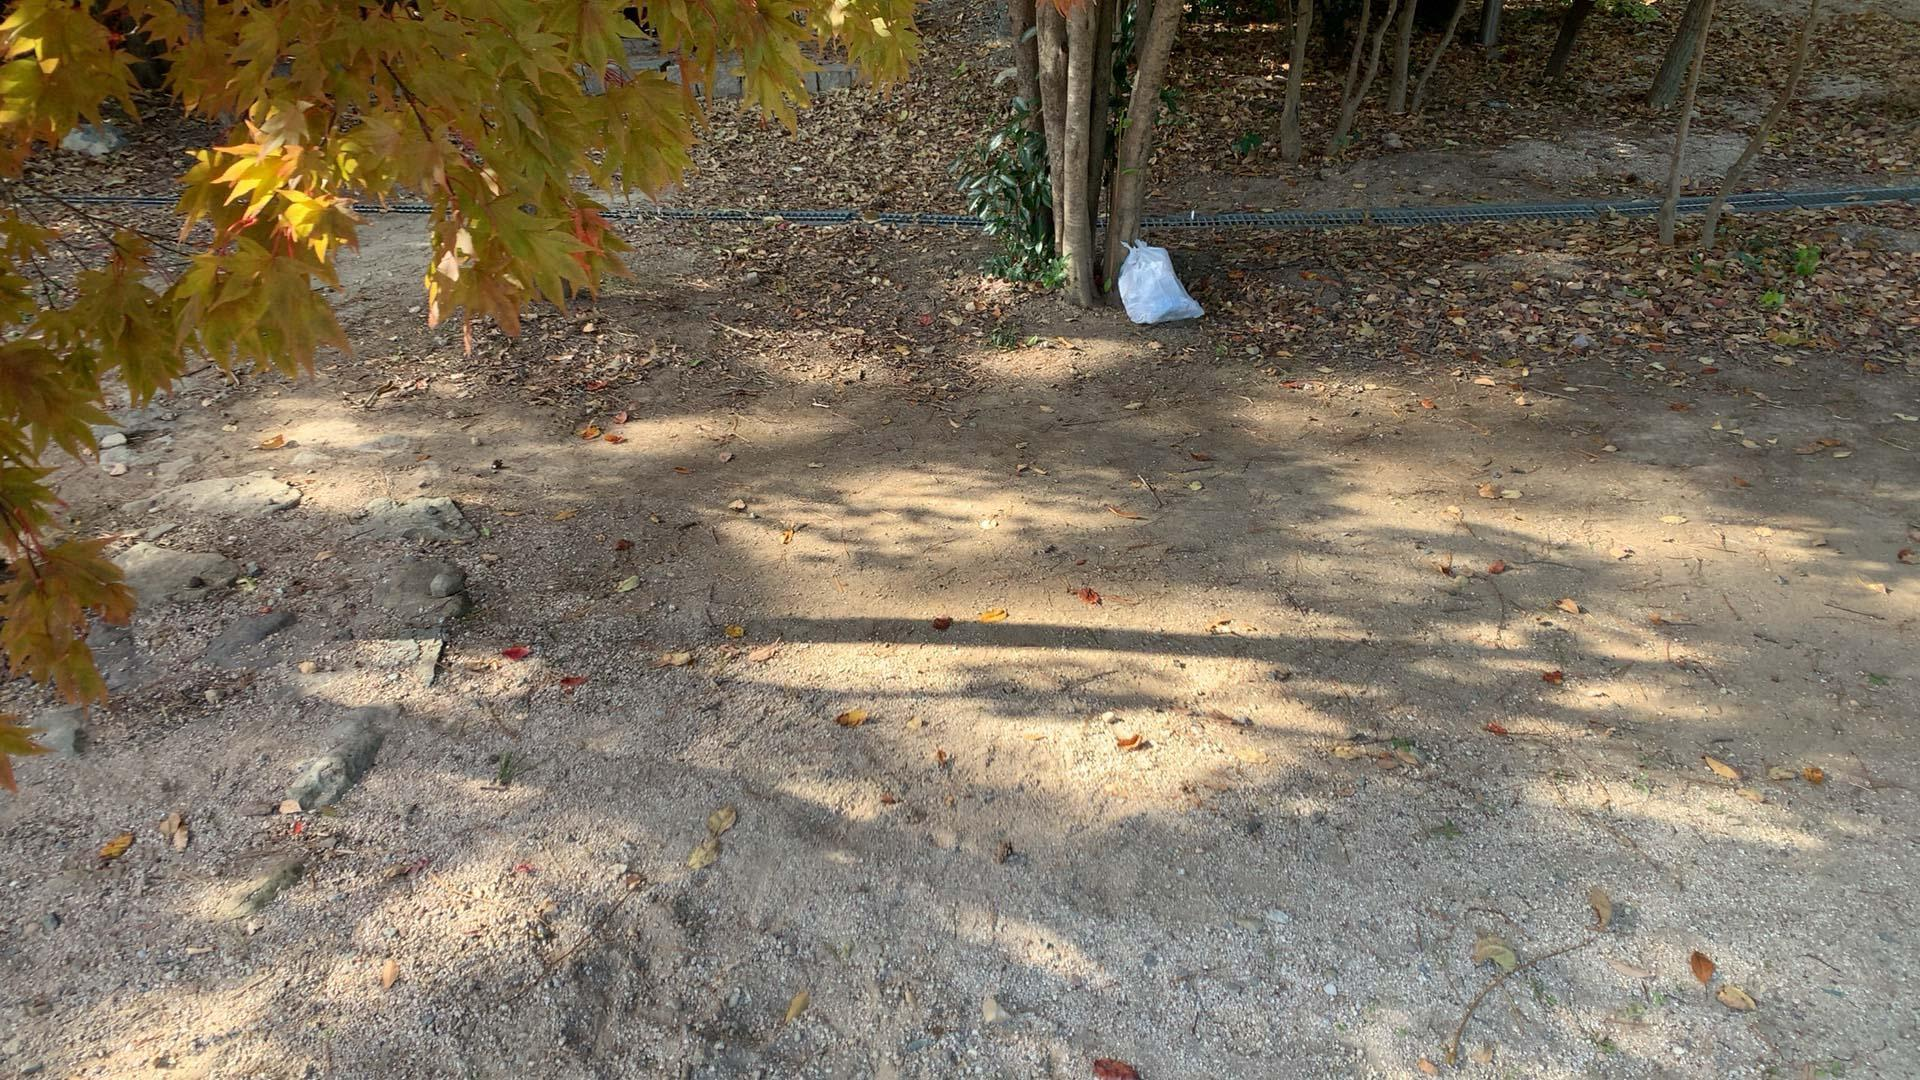white_bag: (1112, 229, 1208, 331)
